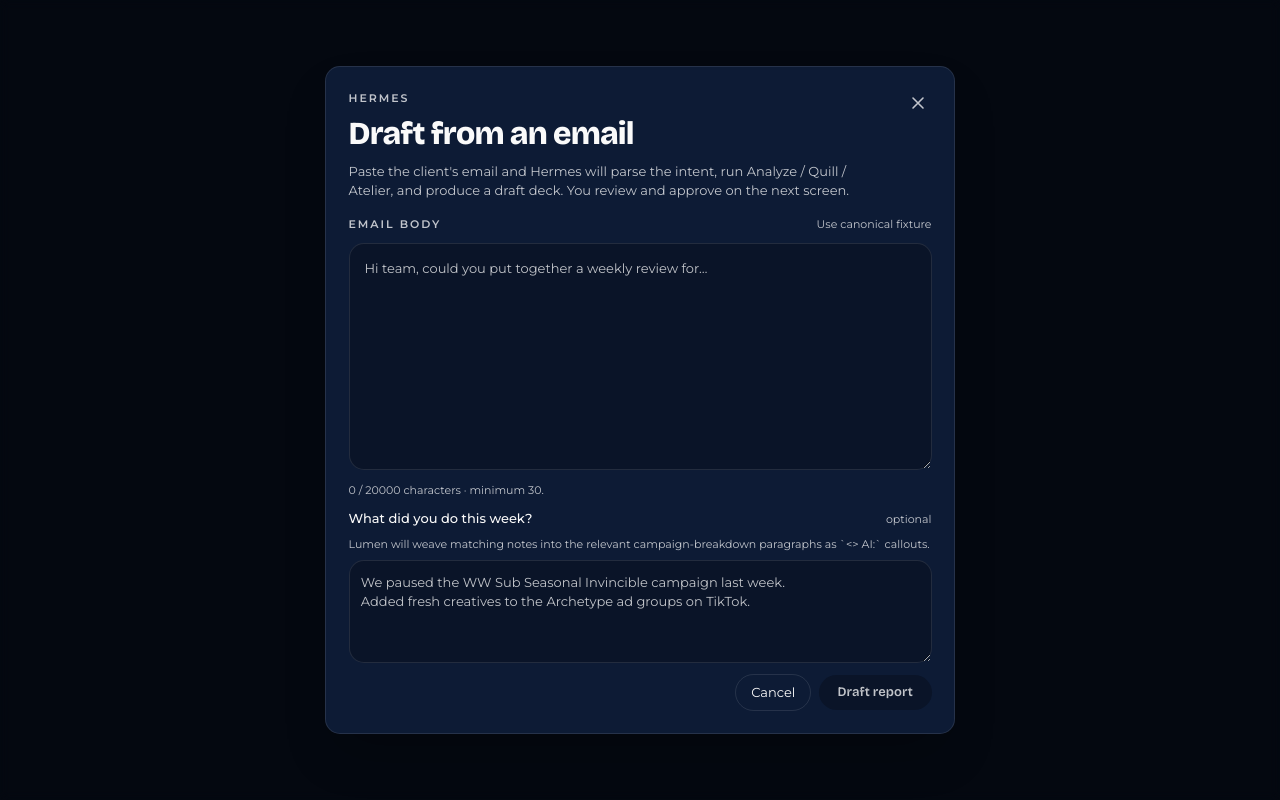
Test: DraftFromEmailModal › falls back to the Hermes profile when Atelier did not produce a report_id
Type "Hi team, please send us a weekly review for GlobalComix on Meta." into the text box labelled "Email body" at (640, 357), box [348, 243, 932, 470]
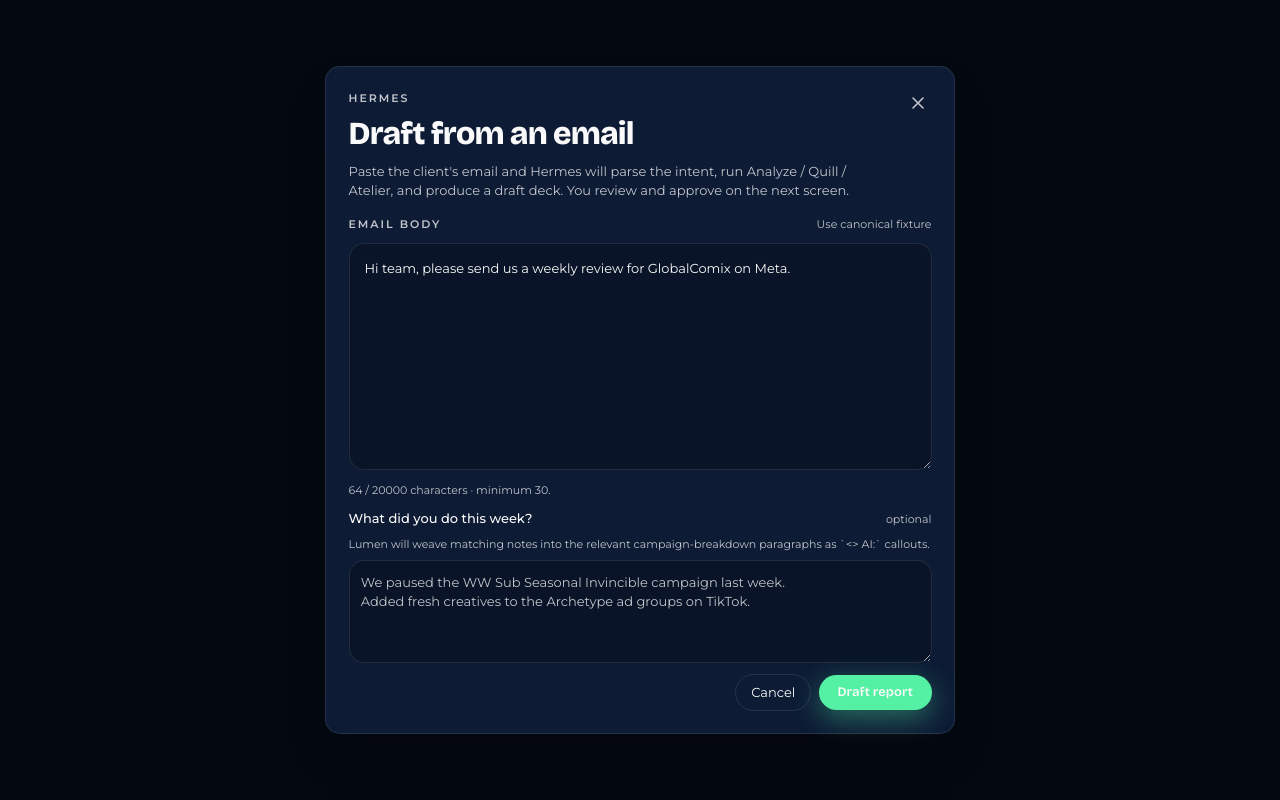
Click the button "Draft report" at (875, 692), box [819, 675, 932, 710]
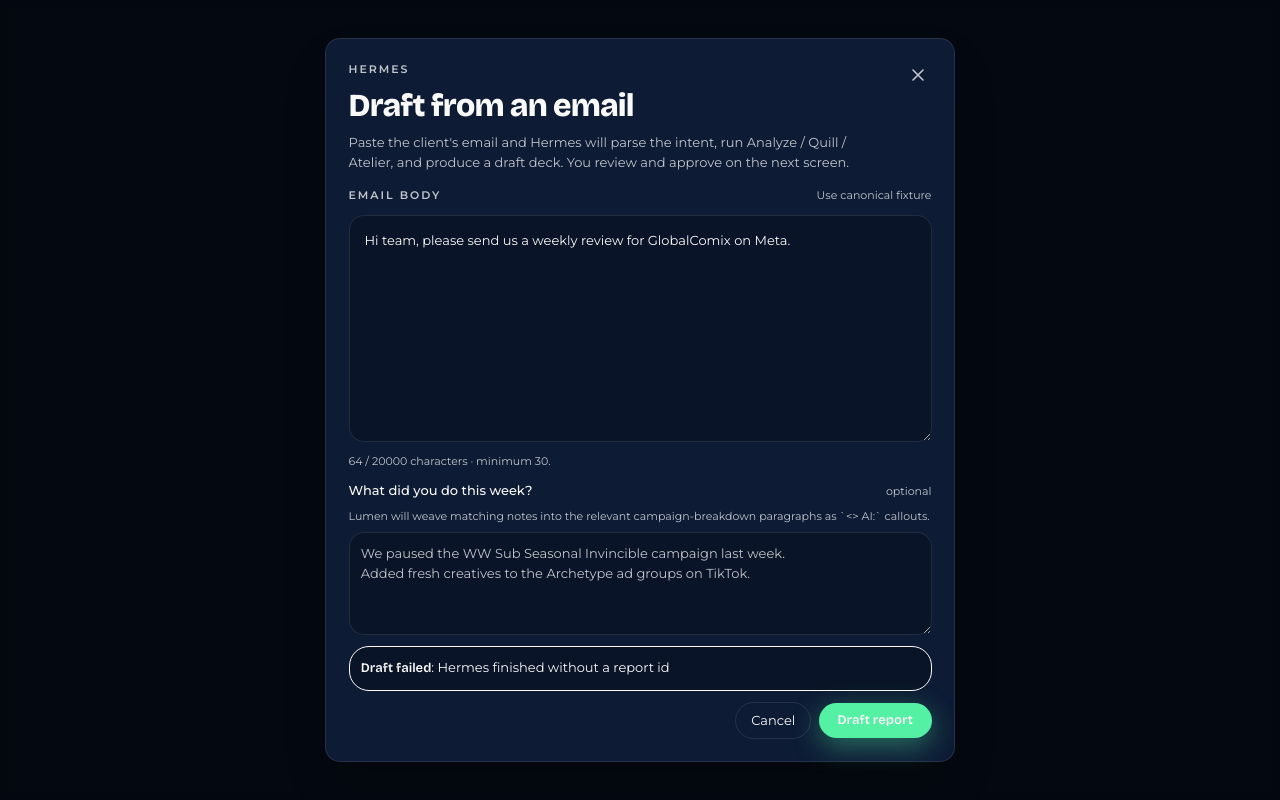
Result: the message "Draft failed: Hermes finished without a report id" is shown at [348, 646, 932, 691]
